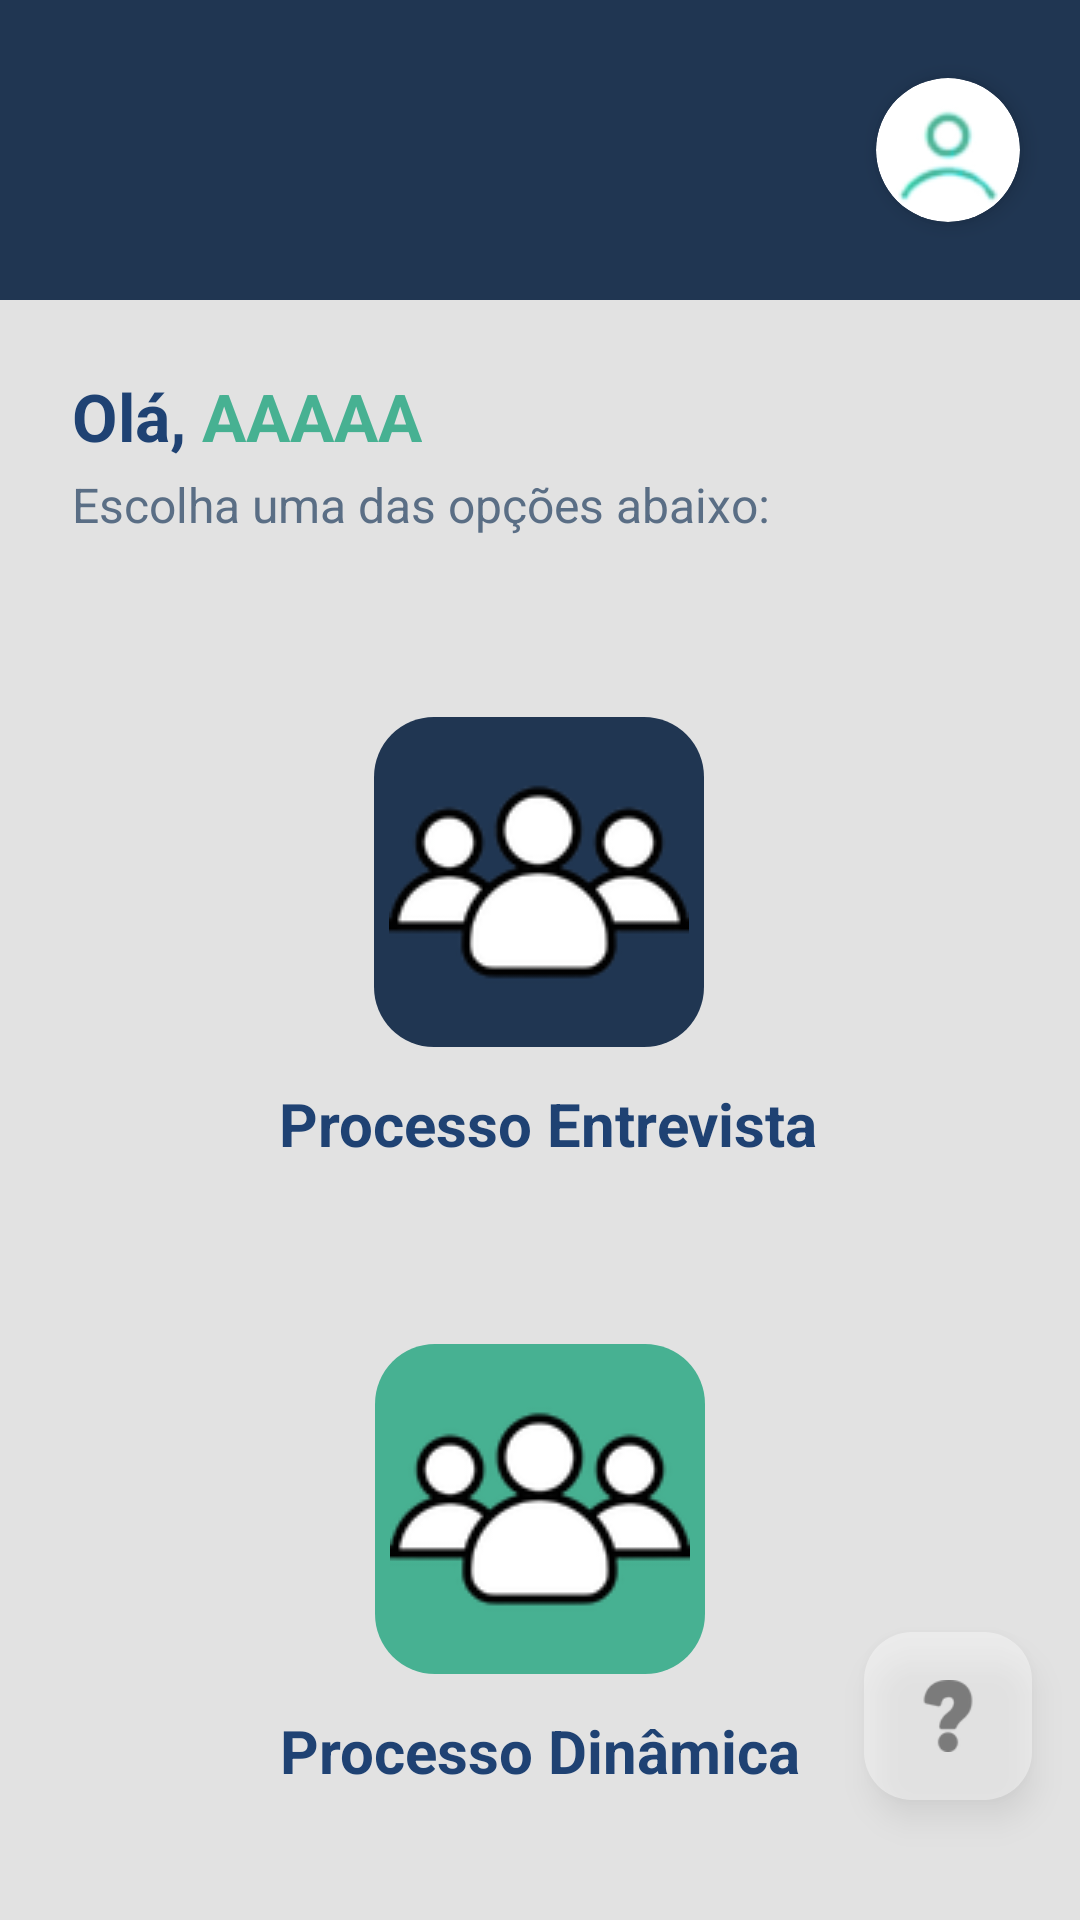

Icon bounding boxes for this 1080w x 1920h phone screenshot, format (x1, y1, x2, y2):
fotoperfil: (876, 78, 1020, 222)
grupo: (374, 717, 704, 1047), (375, 1344, 705, 1674)
interrogacao: (923, 1680, 973, 1752)
